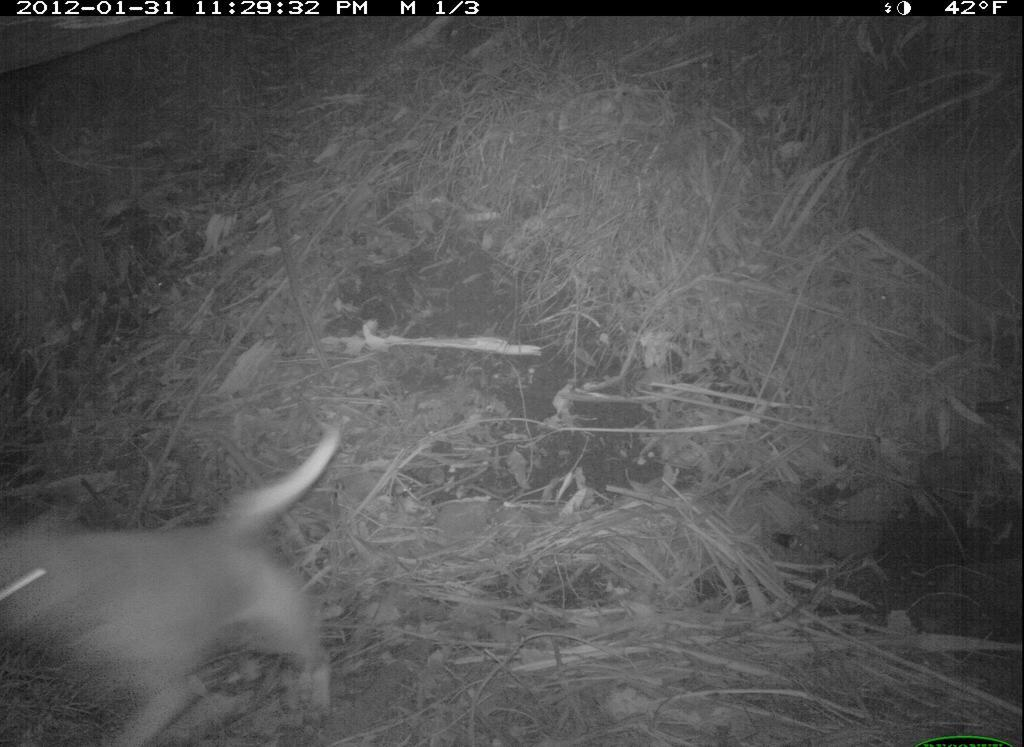dog: (12, 423, 361, 742)
